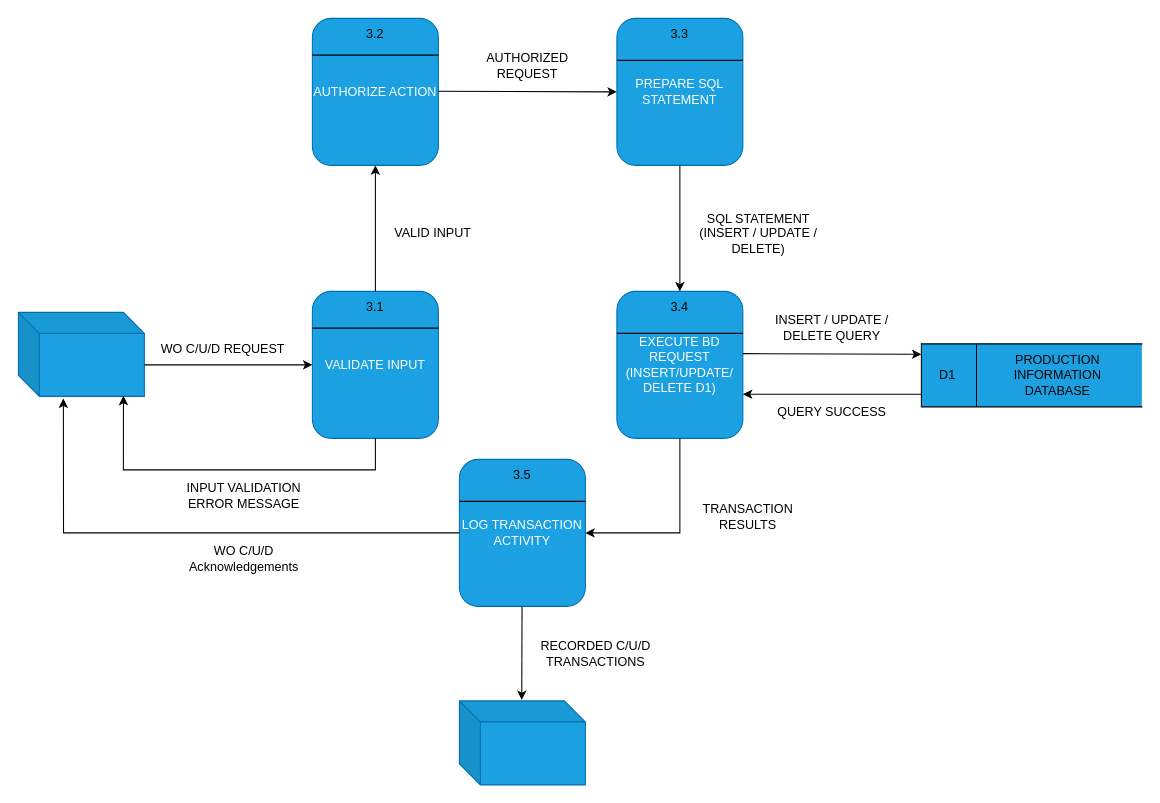
Some shapes in this 1160 by 803 pixel diagram are drawn without their labels. Here are the shapes that lost their labels. From the top down, the centre of each, then its label:
At [80,353]: "DEPARTMENT USER INTERFACE".
At [521,742]: "AUDIT LOGGING".
